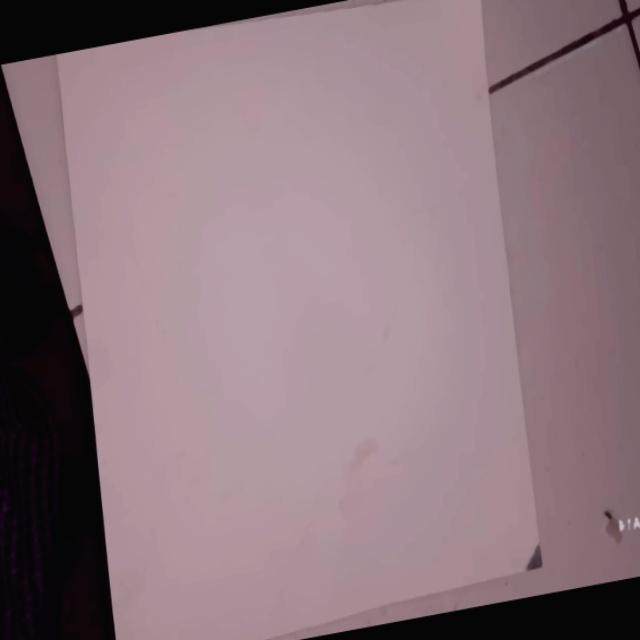TLC Plate: (58, 0, 542, 639)
